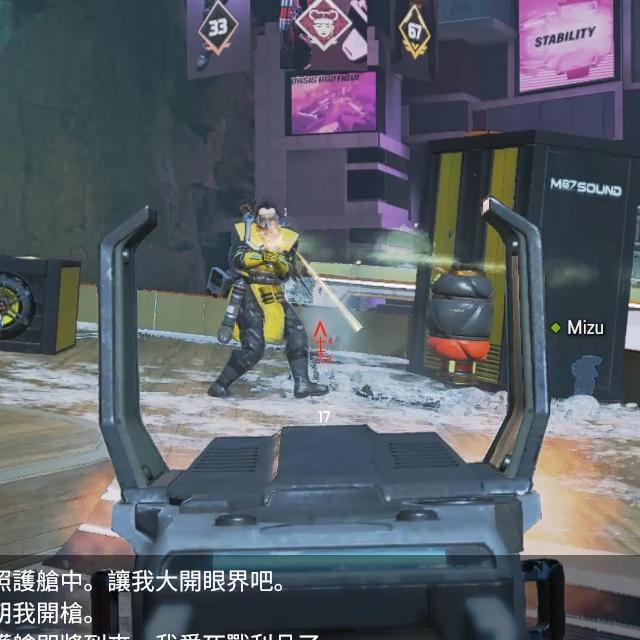avatar: (205, 197, 328, 400)
